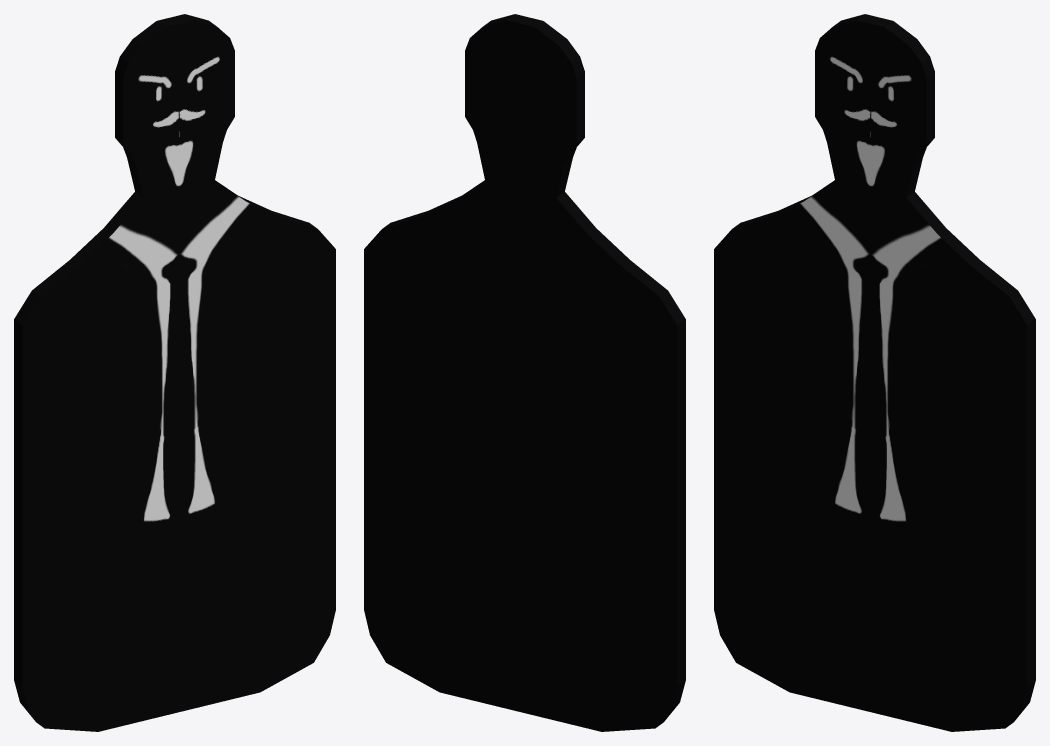
File: silhouette_target.glb
3 renders of one model, left to right at view 1: azimuth 30°, elevation 25°; view 2: azimuth 150°, elevation 25°; view 3: azimuth 330°, elevation 25°, orthographic.
Parts seen in each view (by area): view 1: target-body, target-head; view 2: target-body, target-head; view 3: target-body, target-head.
Part boxes in pixels (bbox=[...]): target-body: bbox=[14, 180, 335, 731]; target-head: bbox=[115, 14, 234, 197]; target-body: bbox=[364, 180, 685, 731]; target-head: bbox=[465, 14, 584, 197]; target-body: bbox=[714, 180, 1035, 731]; target-head: bbox=[815, 14, 934, 197].
Size of the model in its own units: 0.7033 by 1.48 by 0.0334.
1 material, 1 textured.
